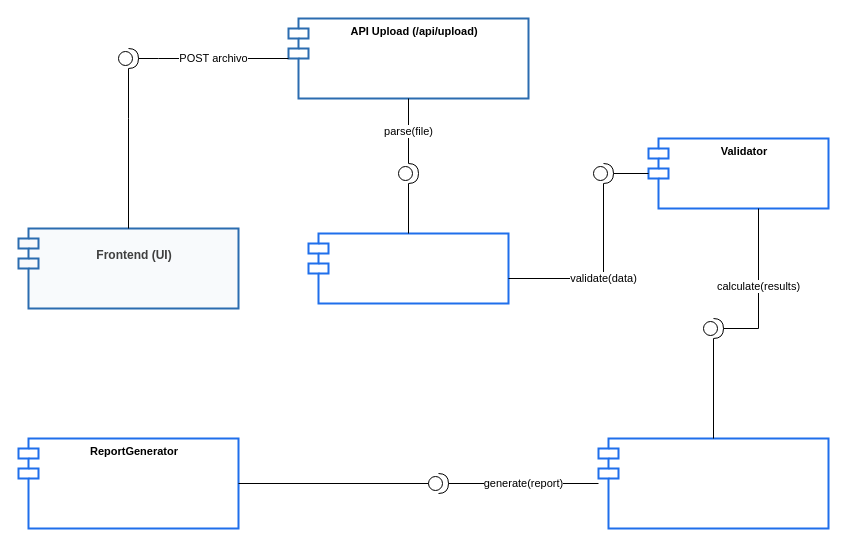
Image size: 846x546. Some labels were removed from this diagram. Each missing label, with the box of its shape:
CostCalculator: (597, 437, 829, 529)
ExcelParser: (307, 232, 509, 304)
